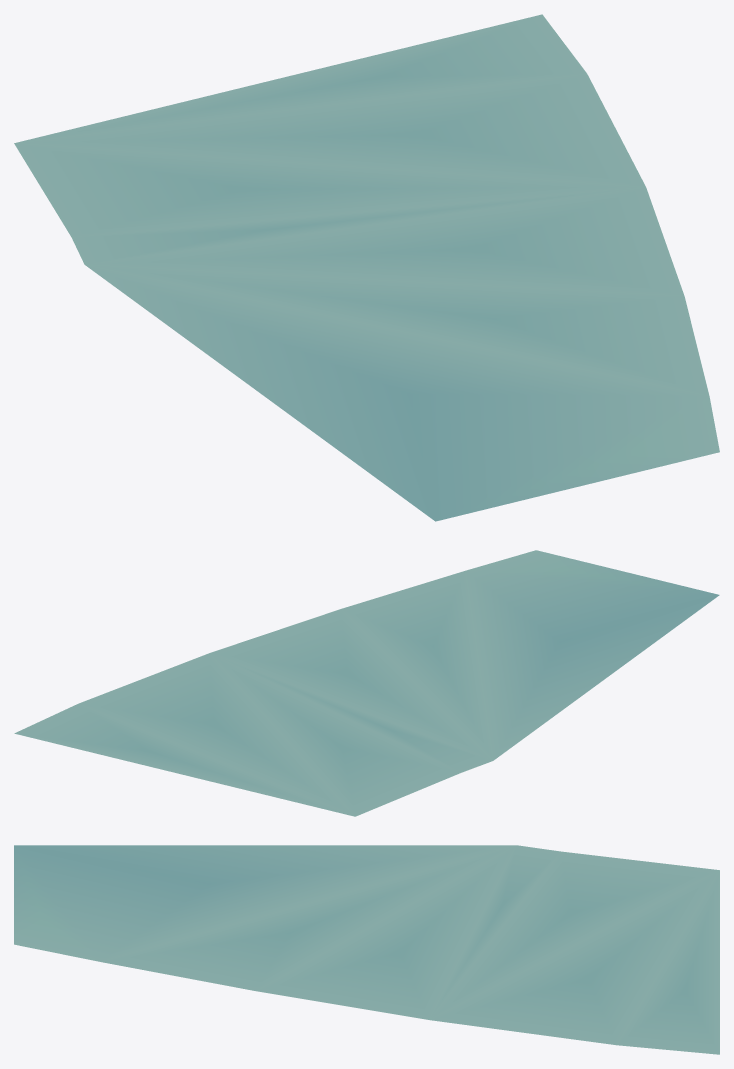
File: water-14-1.glb
3 views of the same model, one above another, from view 1: azimuth 30°, elevation 25°; view 2: azimuth 150°, elevation 25°; view 3: azimuth 270°, elevation 25° (orthographic). The views are drawn at different scales.
Bounding box in the file's own units: 11.24 × 0 × 16.
